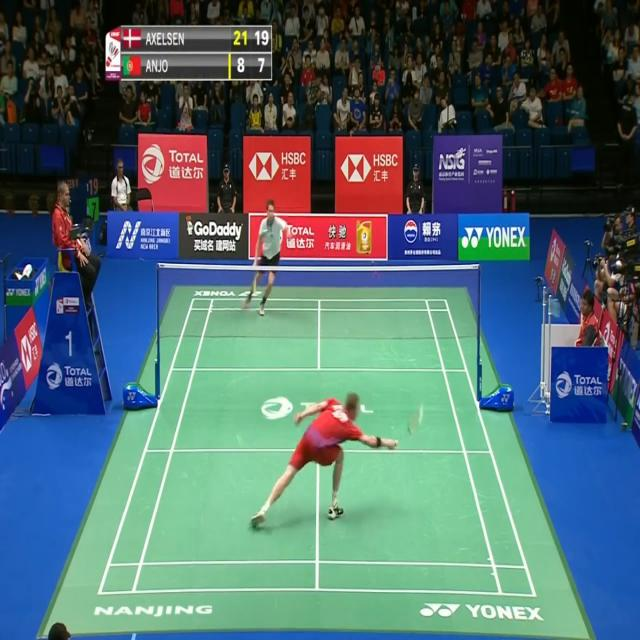Player1: (248, 386, 430, 533)
Player2: (239, 189, 297, 319)
